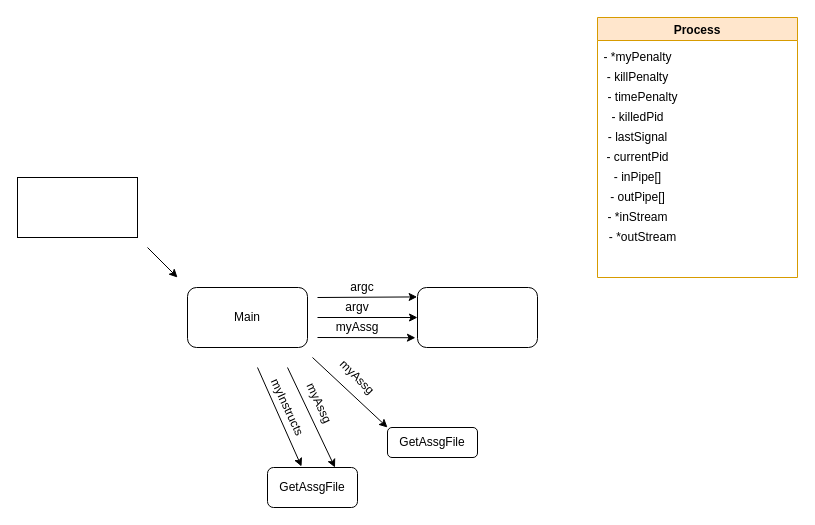
Image size: 815x525. Some labels were removed from this diagram. Here are the shapes that lost their labels. From the top down, the centre of each, then its label:
the point at 77,207: User
the point at 477,317: GetCommandLine
